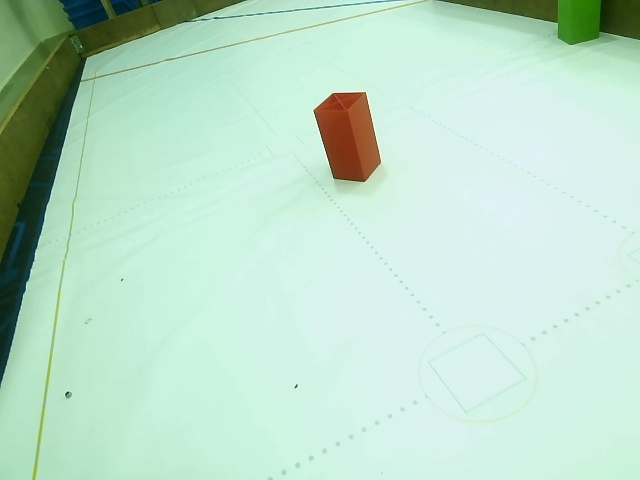red: (318, 99, 382, 185)
